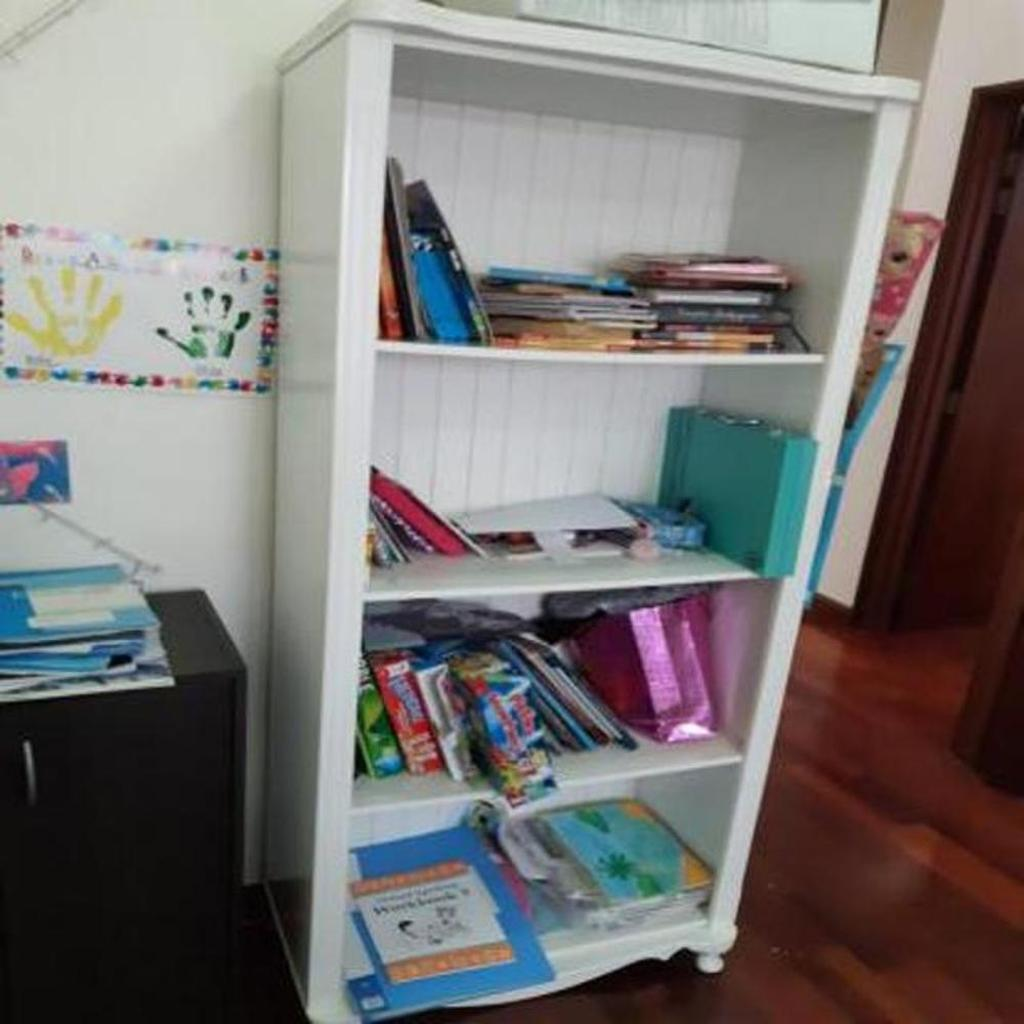lamp: (253, 1, 924, 1023)
